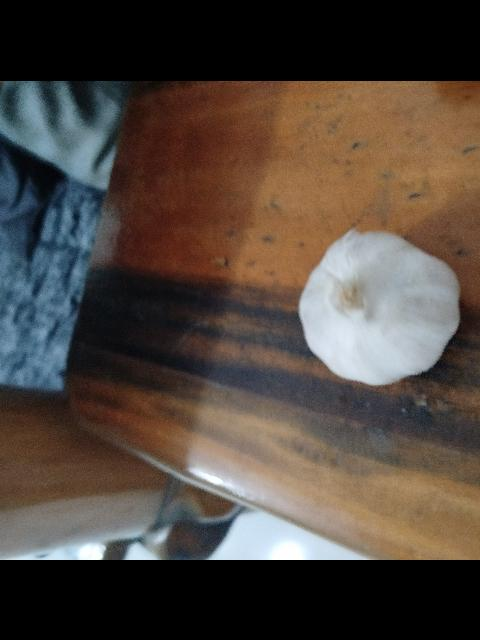garlic: (298, 225, 460, 385)
